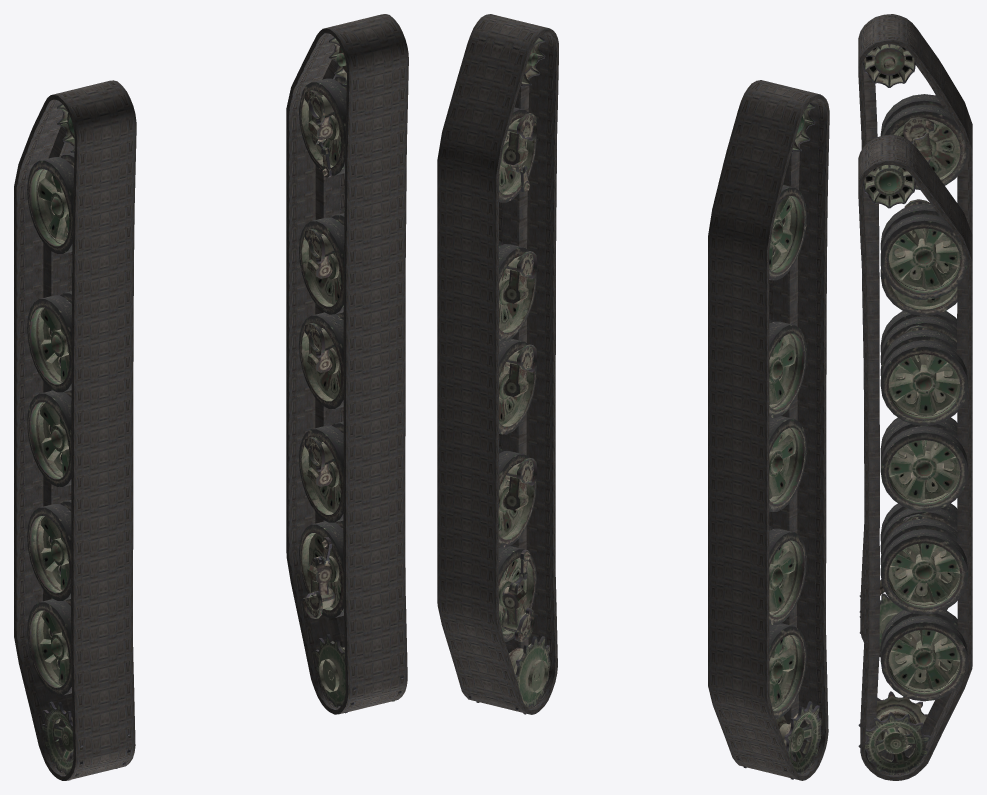
Rendered from Chassis.glb.
3 renders of one model, left to right at view 1: azimuth 30°, elevation 25°; view 2: azimuth 150°, elevation 25°; view 3: azimuth 270°, elevation 25°, orthographic. The views are drawn at different scales.
Visible parts, largest first — view 1: set_1_group_0, set_0_group_0, set_3_group_0, set_2_group_0; view 2: set_1_group_0, set_0_group_0, set_3_group_0, set_2_group_0; view 3: set_3_group_0, set_0_group_0, set_2_group_0, set_1_group_0.
Boxes of the visible parts, x1,y1,x2,y2 form: set_1_group_0: (14, 80, 136, 780); set_0_group_0: (286, 14, 408, 714); set_3_group_0: (299, 37, 403, 713); set_2_group_0: (27, 103, 130, 780); set_1_group_0: (708, 80, 829, 780); set_0_group_0: (437, 14, 558, 714); set_3_group_0: (468, 37, 550, 714); set_2_group_0: (737, 103, 821, 779); set_3_group_0: (858, 165, 967, 774); set_0_group_0: (858, 134, 972, 780); set_2_group_0: (859, 44, 967, 648); set_1_group_0: (858, 14, 972, 657).
Size of the model in its own units: 3.22 by 6.35 by 1.06.
4 materials, 4 textured.
